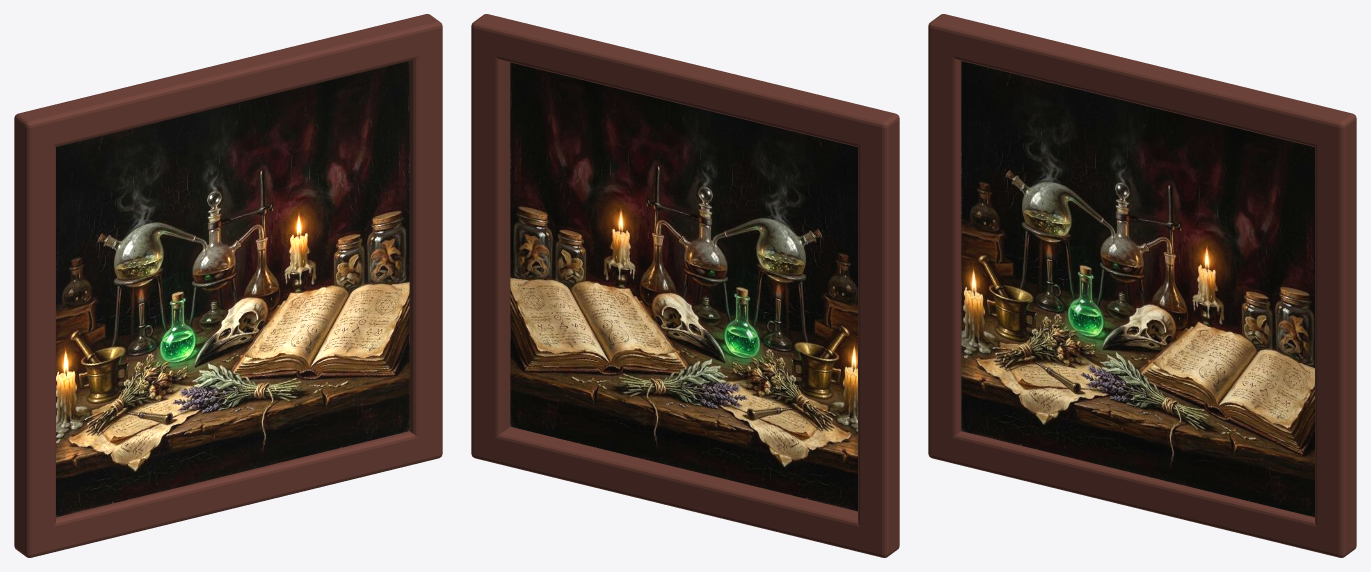
Rendered from art_alchemist_table.glb.
The picture shows the model from 3 angles, left to right: view 1: azimuth 30°, elevation 25°; view 2: azimuth 150°, elevation 25°; view 3: azimuth 330°, elevation 25°; orthographic projection.
Visible parts, largest first — view 1: GD_art_alchemist_table__m0, GD_art_alchemist_table__m1; view 2: GD_art_alchemist_table__m0, GD_art_alchemist_table__m1; view 3: GD_art_alchemist_table__m0, GD_art_alchemist_table__m1.
Boxes of the visible parts, <box> form: GD_art_alchemist_table__m0: <box>56,61,409,517</box>; GD_art_alchemist_table__m1: <box>14,14,442,557</box>; GD_art_alchemist_table__m0: <box>510,62,857,511</box>; GD_art_alchemist_table__m1: <box>471,14,899,557</box>; GD_art_alchemist_table__m0: <box>961,61,1314,517</box>; GD_art_alchemist_table__m1: <box>928,14,1356,557</box>.
Size of the model in its own units: 0.96 by 0.96 by 0.06.
2 materials, 1 textured.
